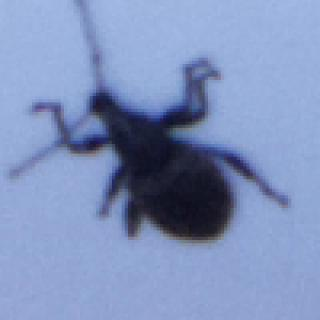bvw: (8, 1, 292, 246)
